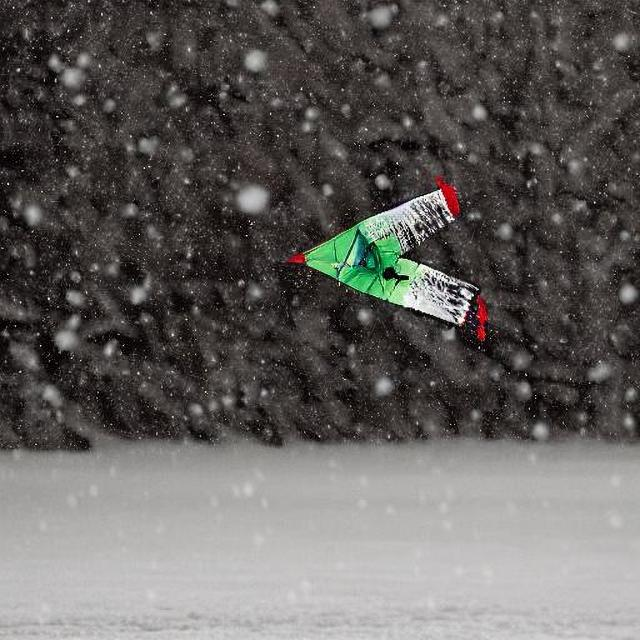floating object: (280, 173, 493, 342)
